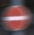No entry: (5, 5, 29, 30)
